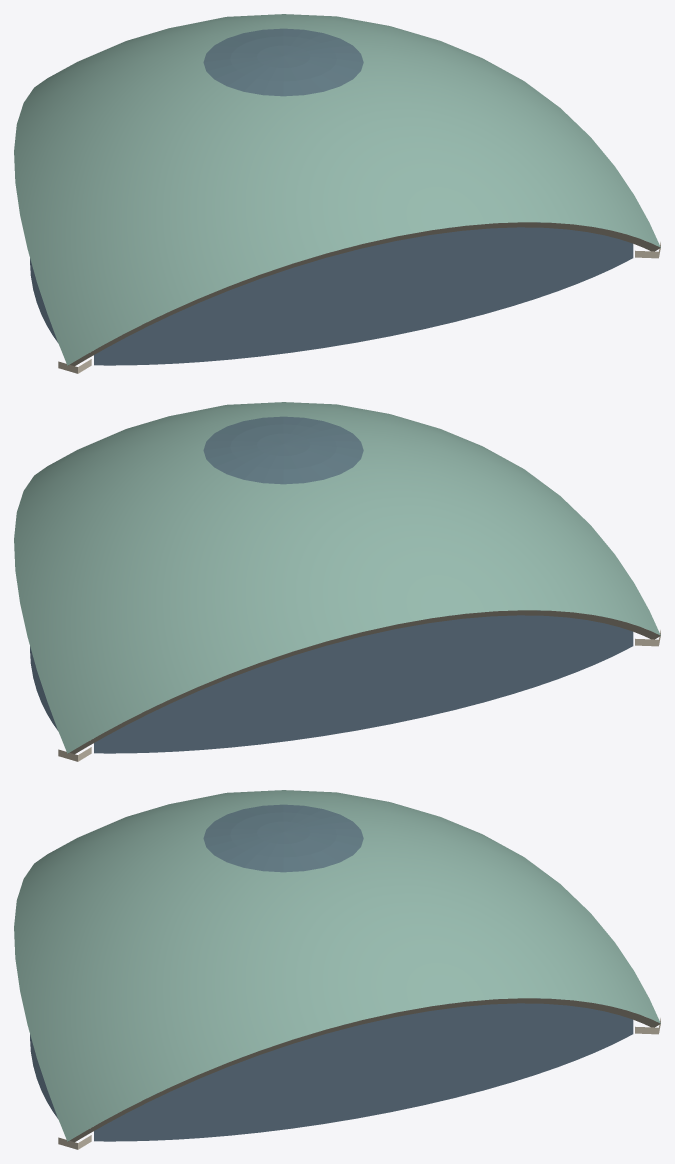
Rendered from bos-mit-kresge-auditorium.glb.
3 views of the same model, one above another, from view 1: azimuth 30°, elevation 25°; view 2: azimuth 150°, elevation 25°; view 3: azimuth 270°, elevation 25° (orthographic).
Visible parts, largest first — view 1: Kresge Auditorium; view 2: Kresge Auditorium; view 3: Kresge Auditorium.
Part boxes in pixels (x1,y1,x2,y2): Kresge Auditorium: (14, 14, 660, 373); Kresge Auditorium: (14, 402, 660, 761); Kresge Auditorium: (14, 790, 660, 1149).
Bounding box in the file's own units: 49.69 × 15.19 × 48.44.
